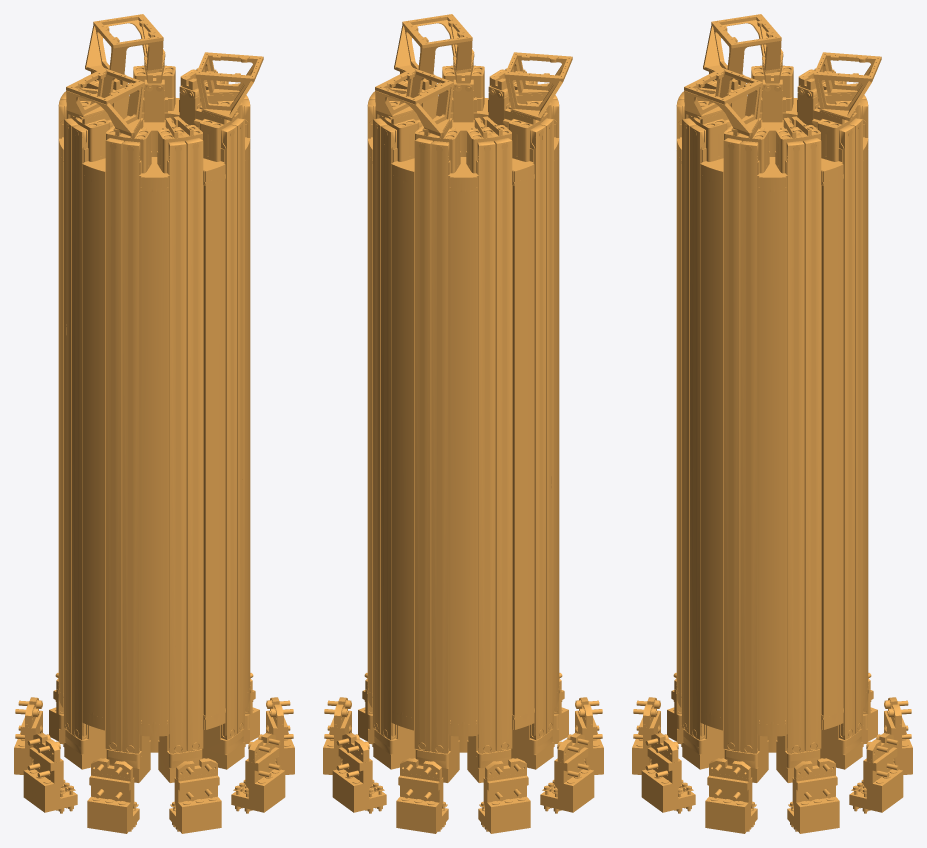
The picture shows the model from 3 angles, left to right: view 1: azimuth 30°, elevation 25°; view 2: azimuth 150°, elevation 25°; view 3: azimuth 270°, elevation 25°; orthographic projection.
Parts seen in each view (by area): view 1: ITER_MESH__cs; view 2: ITER_MESH__cs; view 3: ITER_MESH__cs.
Boxes of the visible parts, x1,y1,x2,y2 form: ITER_MESH__cs: [14, 14, 294, 833]; ITER_MESH__cs: [323, 14, 603, 833]; ITER_MESH__cs: [632, 14, 912, 833].
Size of the model in its own units: 6.23 by 17.93 by 6.32.
